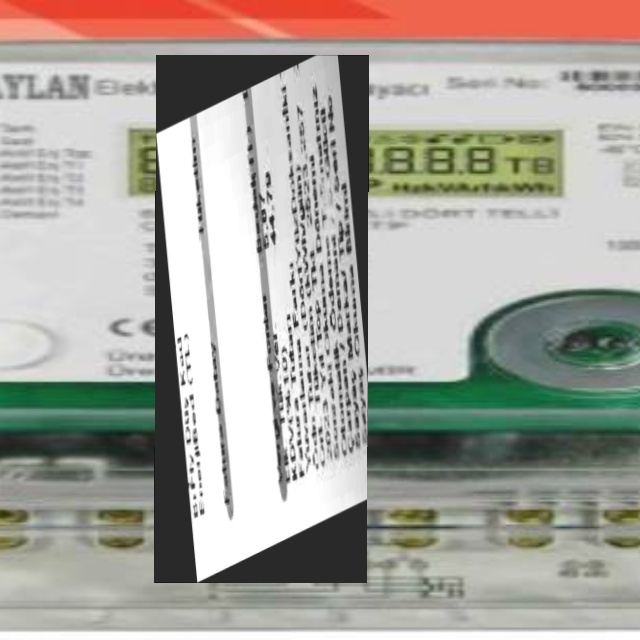electricity-bill: (154, 54, 369, 582)
